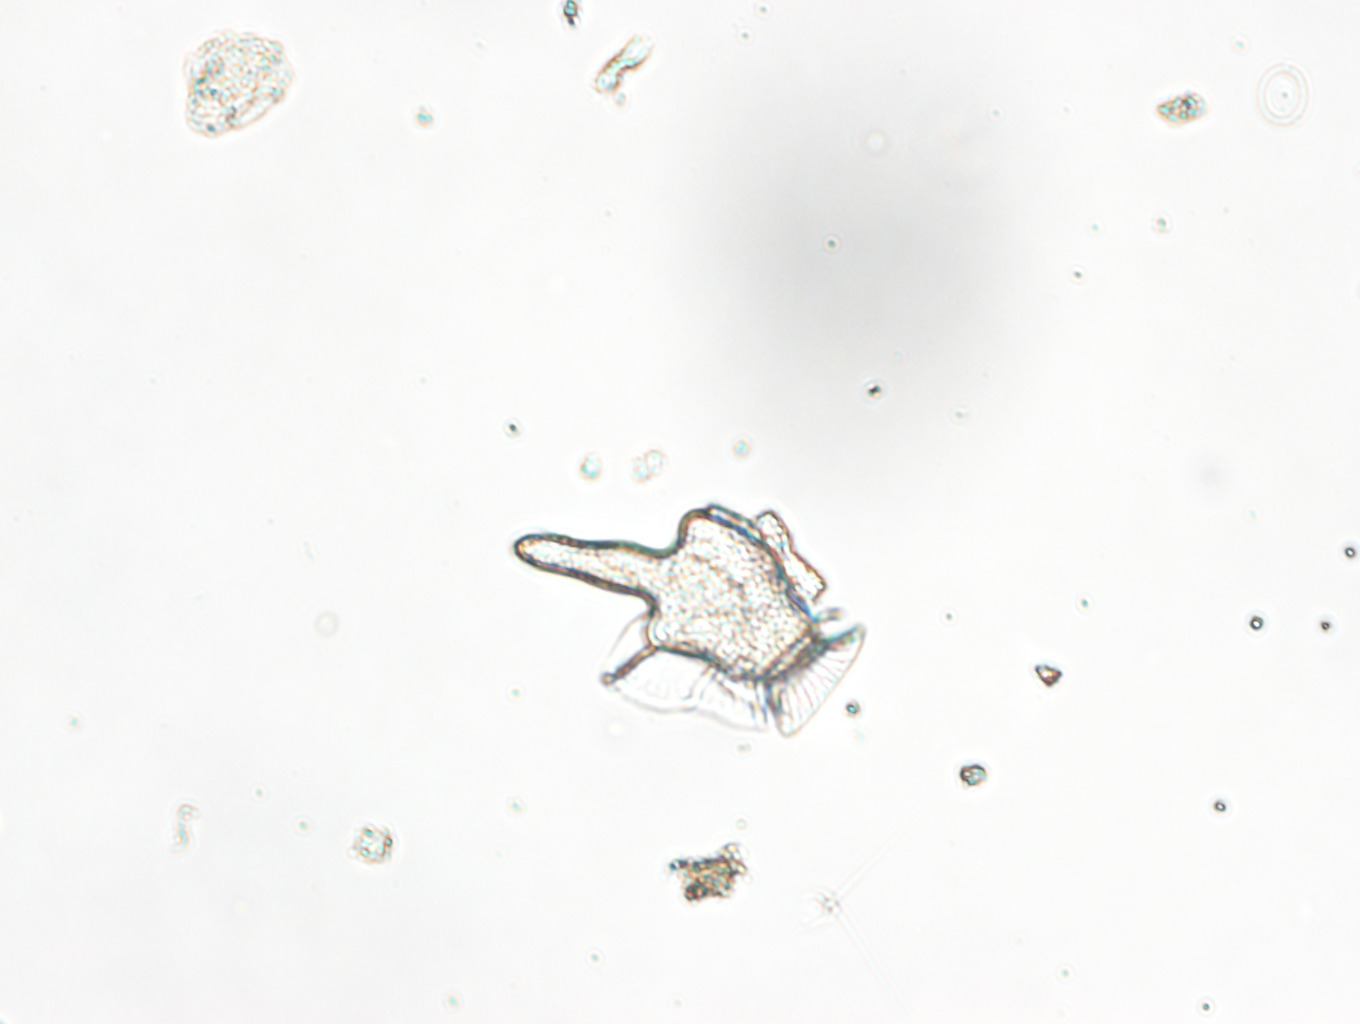dinophysis caudata: (511, 501, 865, 741)
